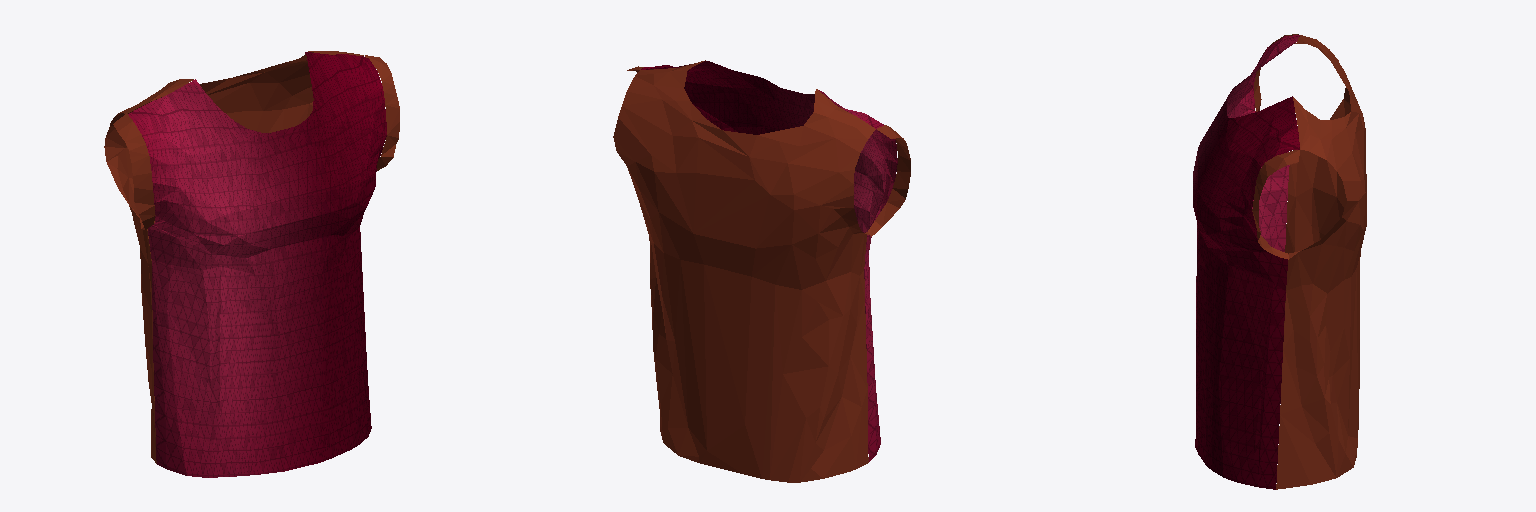
3 views of the same model, side by side, from view 1: azimuth 30°, elevation 25°; view 2: azimuth 150°, elevation 25°; view 3: azimuth 270°, elevation 25° (orthographic).
Visible parts, largest first — view 1: T_shirt.007; view 2: T_shirt.007; view 3: T_shirt.007.
Part boxes in pixels (bbox=[...]): T_shirt.007: bbox=[104, 51, 399, 477]; T_shirt.007: bbox=[613, 60, 910, 482]; T_shirt.007: bbox=[1193, 34, 1366, 489].
Bounding box in the file's own units: 0.2935 × 0.3892 × 0.1639.
2 materials, 1 textured.